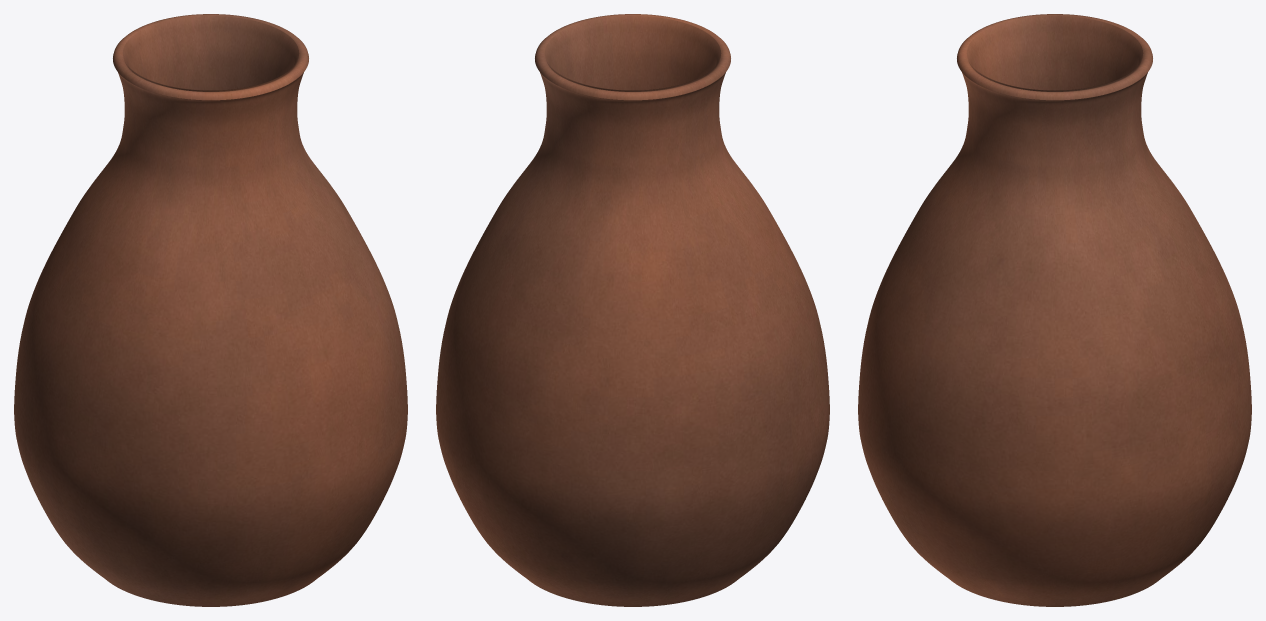
Rendered from jarron_greda.glb.
The picture shows the model from 3 angles, left to right: view 1: azimuth 30°, elevation 25°; view 2: azimuth 150°, elevation 25°; view 3: azimuth 270°, elevation 25°; orthographic projection.
Visible parts, largest first — view 1: JarronGreda; view 2: JarronGreda; view 3: JarronGreda.
Part boxes in pixels (<box>): JarronGreda: <box>14,14,407,606</box>; JarronGreda: <box>436,14,829,606</box>; JarronGreda: <box>858,14,1251,606</box>.
Size of the model in its own units: 0.2006 by 0.2832 by 0.2006.
Materials: 1 (1 with a texture image).
